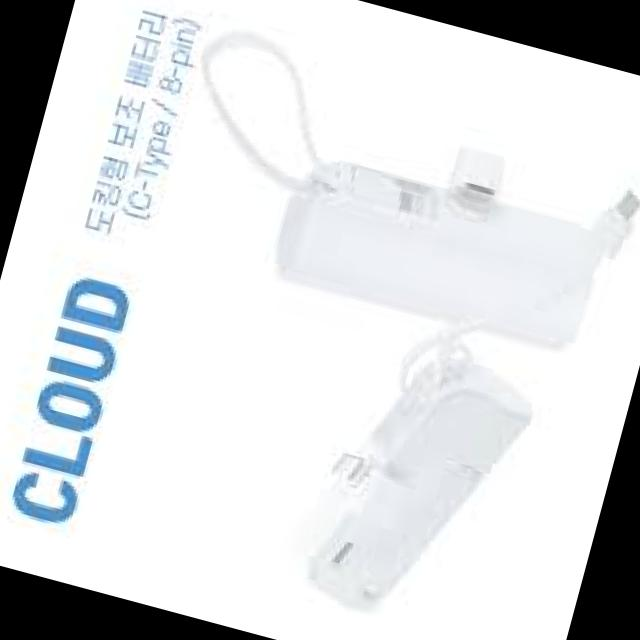portable-charger: (259, 102, 640, 368), (282, 324, 546, 640)
